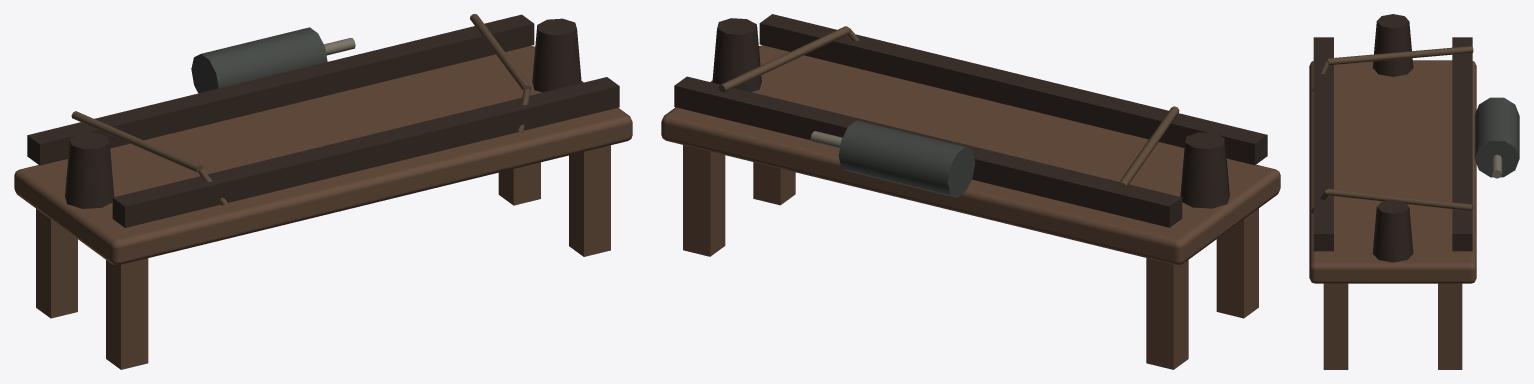
The model's file is torture_rack.glb.
3 views of the same model, side by side, from view 1: azimuth 30°, elevation 25°; view 2: azimuth 150°, elevation 25°; view 3: azimuth 270°, elevation 25° (orthographic). The views are drawn at different scales.
Visible parts, largest first — view 1: torture_rack; view 2: torture_rack; view 3: torture_rack.
Boxes of the visible parts, x1,y1,x2,y2 form: torture_rack: (14, 14, 632, 369); torture_rack: (661, 14, 1280, 369); torture_rack: (1309, 14, 1519, 369).
Bounding box in the file's own units: 2.8 × 1 × 1.2.
1 material, 1 textured.
